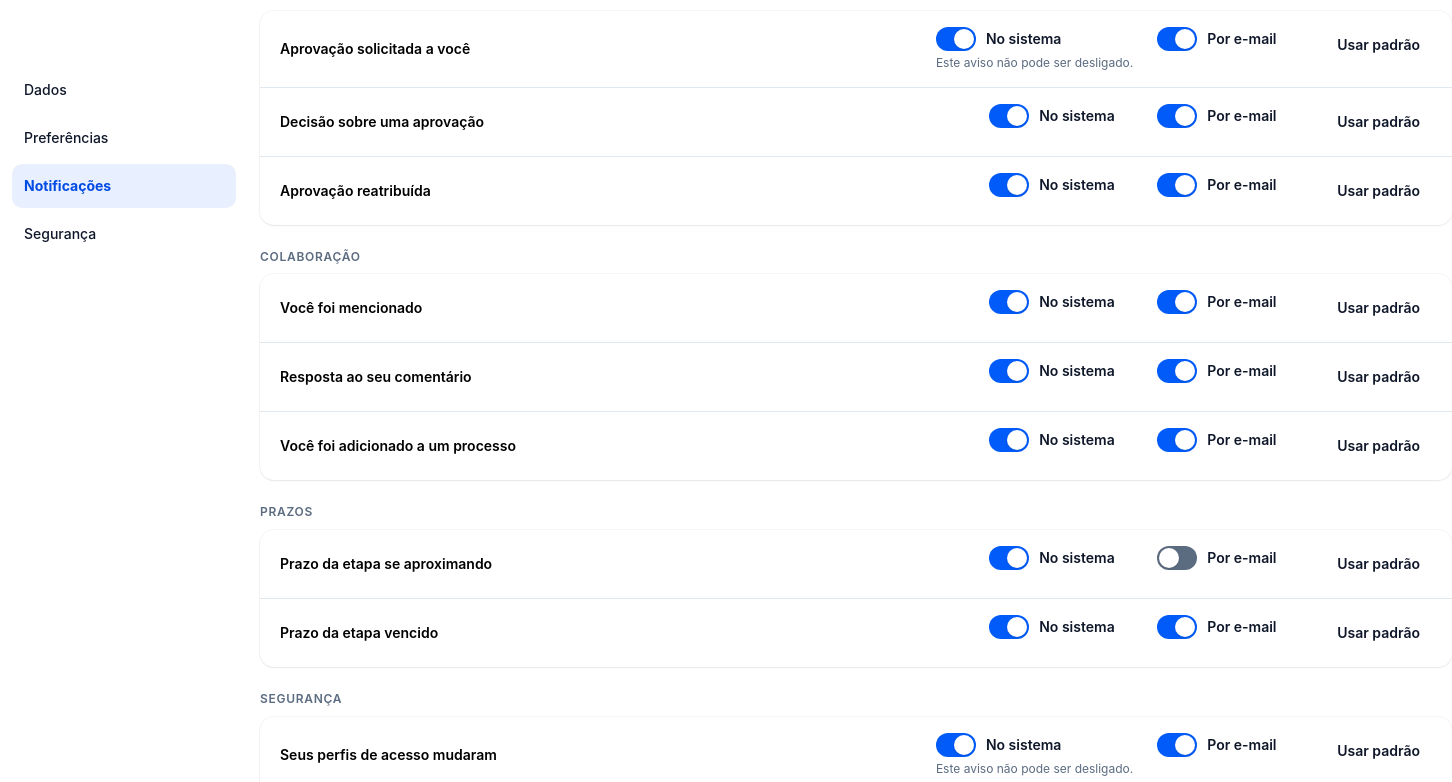
Test case: SCR-039 — aba Notificações (US-113) › [FA-01] "Usar padrão" apaga a preferência salva do tipo
(page scrolled)
Expected: the heading "Colaboração" is shown, [260,249,361,264]
Step 1. Click the button with aria-label "Usar padrão: Resposta ao seu comentário" → x=1379, y=378, box [1325,360,1432,396]
(page scrolled)
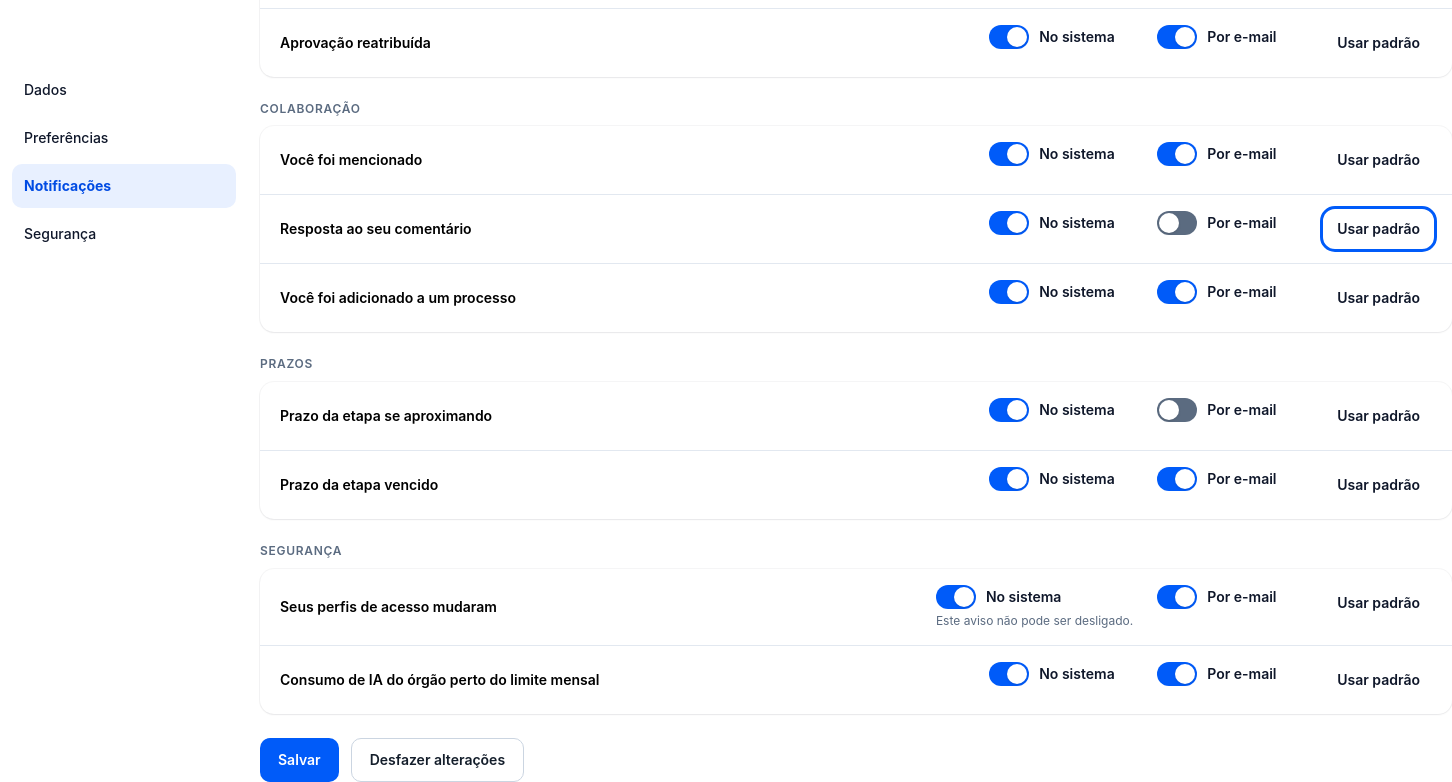
Expected: the 8th switch named "Por e-mail" is not checked, [1157,212,1197,236]
Step 2. Click the button "Salvar" → x=299, y=760, box [260,738,339,781]
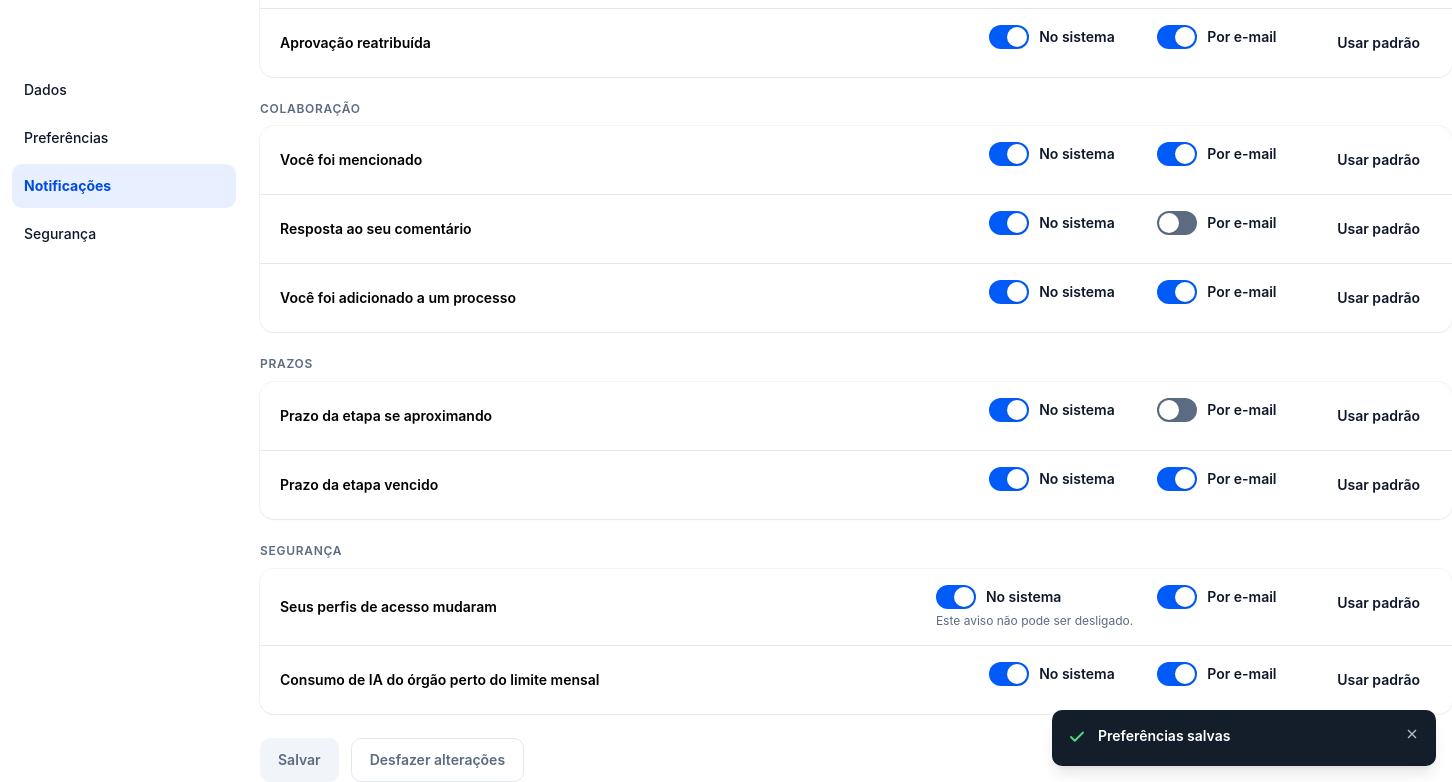
Expected: the text "Preferências salvas" is shown, [1098,727,1230,744]
